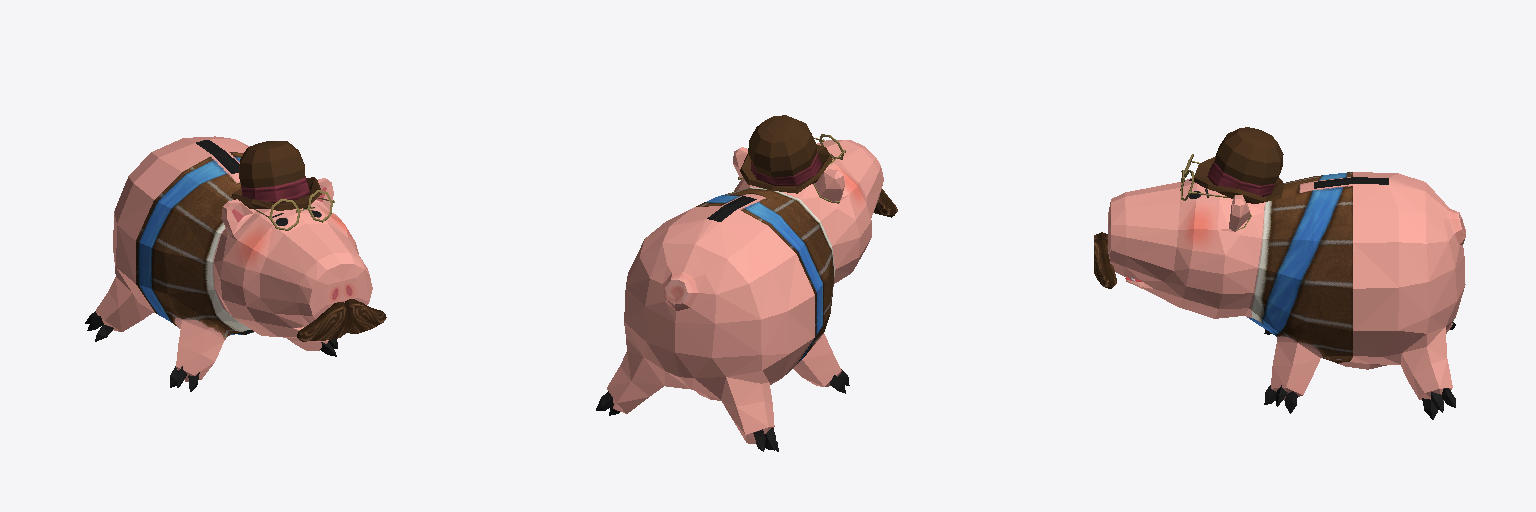
3 renders of one model, left to right at view 1: azimuth 30°, elevation 25°; view 2: azimuth 150°, elevation 25°; view 3: azimuth 270°, elevation 25°, orthographic.
Parts seen in each view (by area): view 1: Mesh_0197; view 2: Mesh_0197; view 3: Mesh_0197.
Boxes of the visible parts, <box> form: Mesh_0197: <box>85,136,386,391</box>; Mesh_0197: <box>596,115,897,451</box>; Mesh_0197: <box>1094,127,1465,419</box>.
Size of the model in its own units: 0.9983 by 1.35 by 1.83.
Materials: 1 (1 with a texture image).